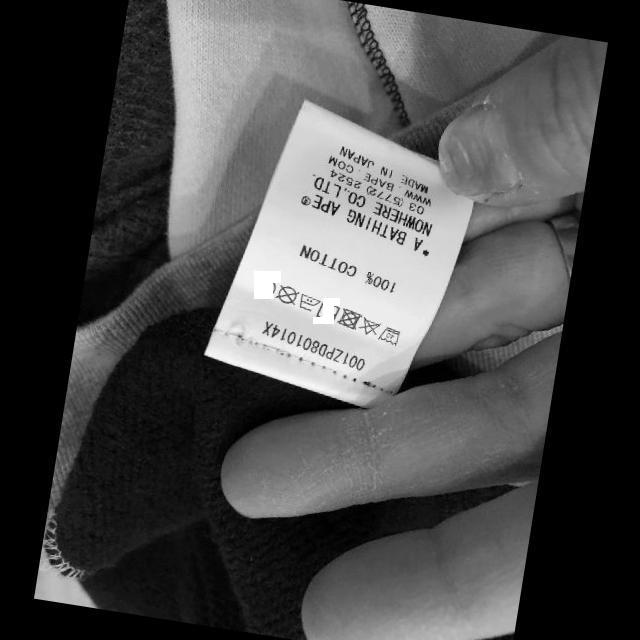40C: (376, 324, 402, 346)
DN_bleach: (356, 314, 381, 336)
DN_dry_clean: (273, 283, 300, 306)
DN_tumble_dry: (334, 306, 363, 331)
iron_medium: (296, 290, 322, 316)
